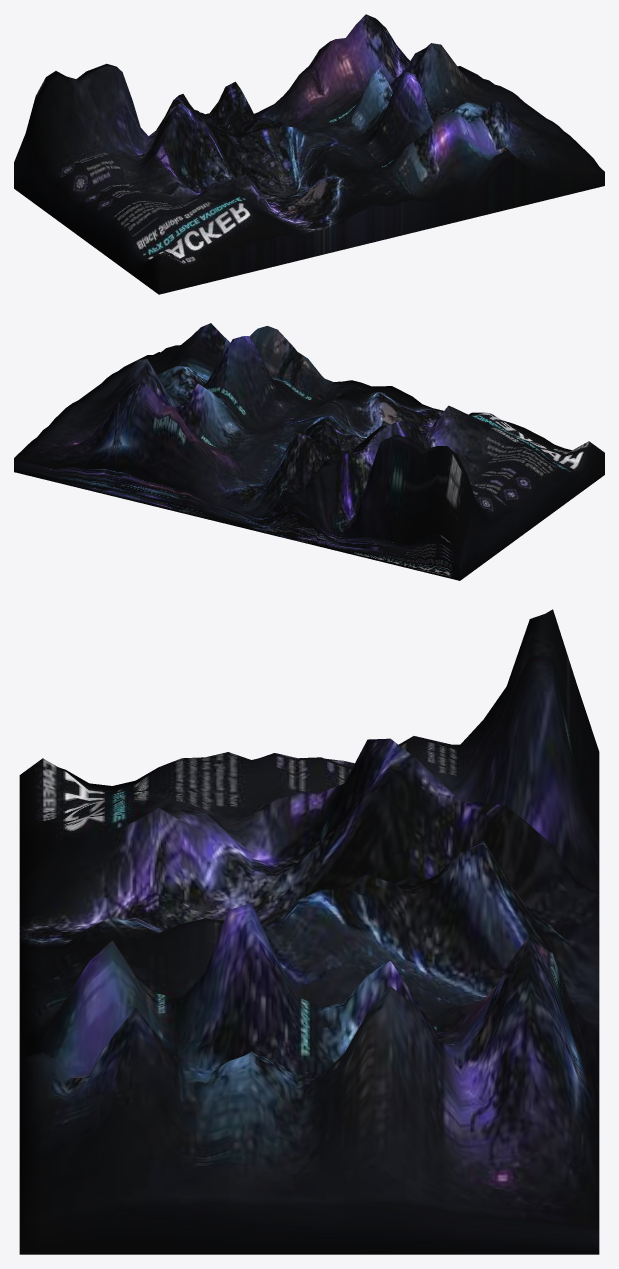
Rendered from CAREER_03_VFX_03_Trace.glb.
The picture shows the model from 3 angles, top to bottom: view 1: azimuth 30°, elevation 25°; view 2: azimuth 150°, elevation 25°; view 3: azimuth 270°, elevation 25°; orthographic projection. The views are drawn at different scales.
Parts seen in each view (by area): view 1: CAREER_03_VFX_03_Trace; view 2: CAREER_03_VFX_03_Trace; view 3: CAREER_03_VFX_03_Trace.
Part boxes in pixels (left/top/right/bottom): CAREER_03_VFX_03_Trace: left=14, top=14, right=604, bottom=294; CAREER_03_VFX_03_Trace: left=14, top=323, right=604, bottom=580; CAREER_03_VFX_03_Trace: left=19, top=609, right=599, bottom=1254.
Size of the model in its own units: 2 by 0.51 by 1.13.
Materials: 1 (1 with a texture image).
